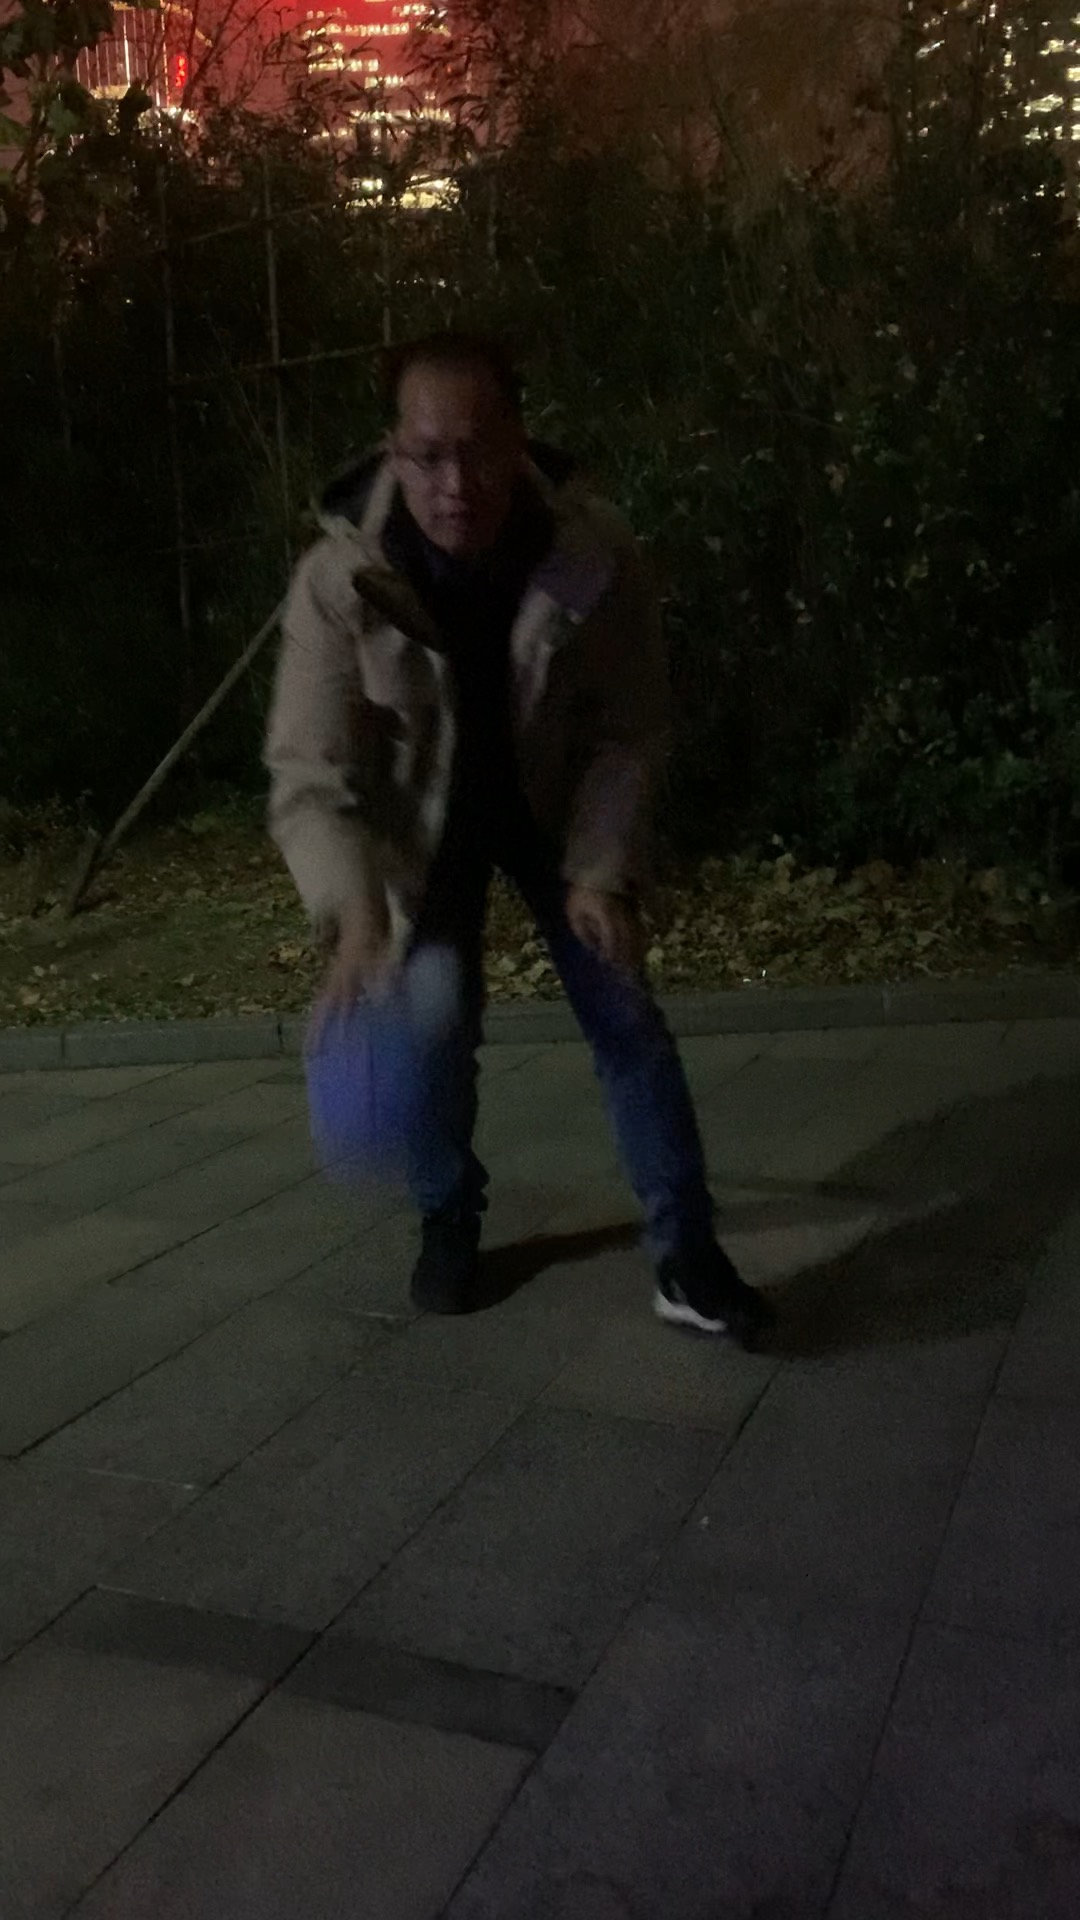ball: (299, 1002, 485, 1193)
